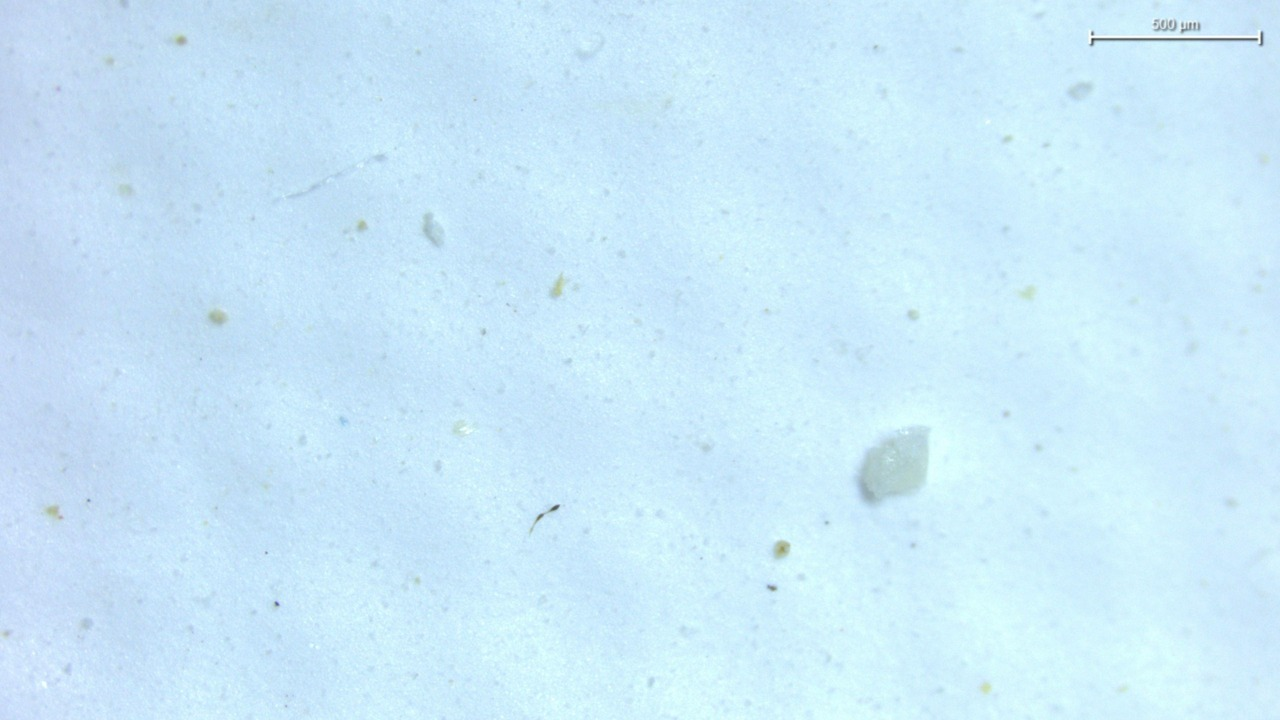microplastic_fragment: (859, 426, 929, 502)
